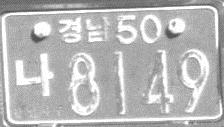0: (138, 13, 162, 44)
1: (110, 50, 129, 118)
4: (139, 48, 175, 115)
5: (115, 13, 138, 45)
8: (65, 51, 101, 115)
9: (175, 48, 211, 115)
경남_O: (56, 15, 111, 44)
나: (13, 52, 54, 98)
